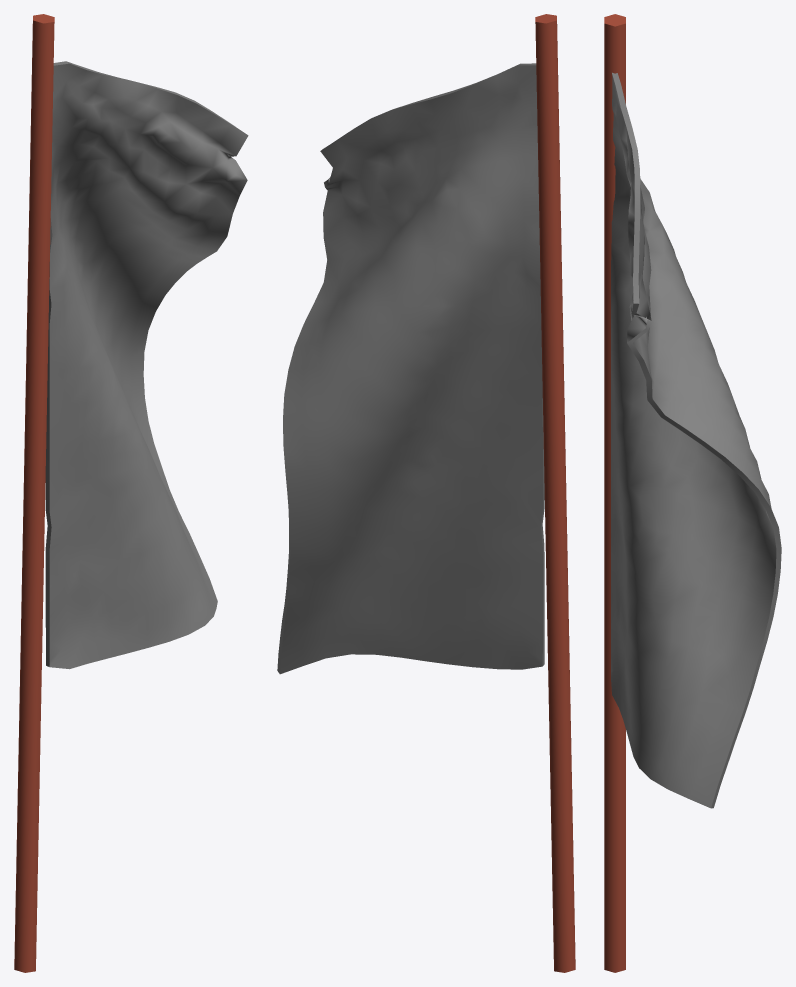
The model's file is SM_flag_shop_02.fbx.
The picture shows the model from 3 angles, left to right: view 1: azimuth 30°, elevation 25°; view 2: azimuth 150°, elevation 25°; view 3: azimuth 270°, elevation 25°; orthographic projection.
Visible parts, largest first — view 1: Cylinder092; view 2: Cylinder092; view 3: Cylinder092.
Boxes of the visible parts, x1=… form: Cylinder092: x1=14, y1=14, x2=248, y2=972; Cylinder092: x1=277, y1=14, x2=575, y2=972; Cylinder092: x1=604, y1=14, x2=781, y2=972.
Bounding box in the file's own units: 40.4 × 146 × 24.48.
